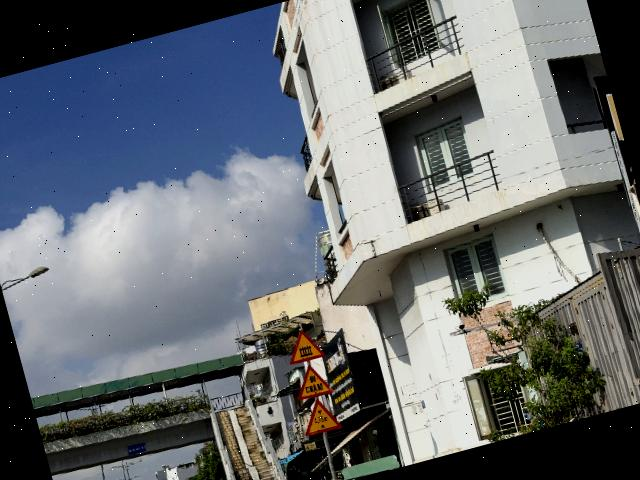chieu-cao-tinh-khong-thuc-te: (297, 394, 344, 437)
di-cham: (290, 360, 335, 402)
noi-giao-nhau-voi-duong-sat-co-rao-chan: (282, 324, 326, 365)
